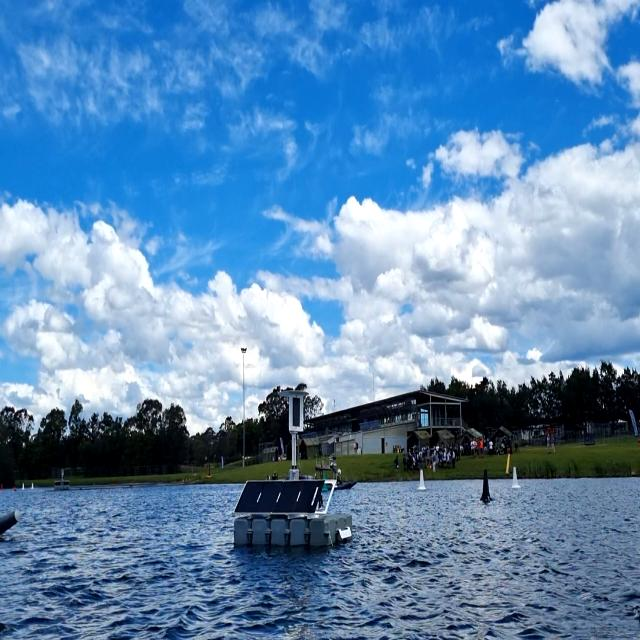led: (290, 396, 301, 429)
